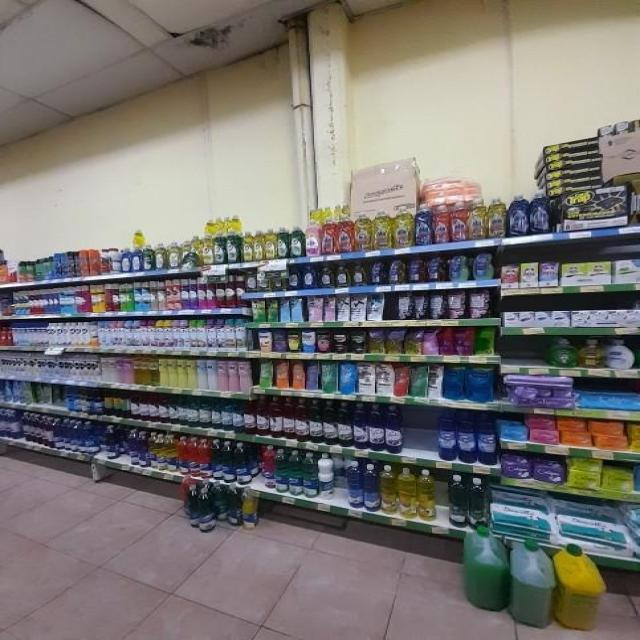ala_conc_amarillo: (394, 206, 414, 248), (373, 209, 392, 250), (488, 197, 506, 239), (354, 212, 372, 252), (469, 198, 486, 240)
ala_conc_azul: (508, 194, 528, 236), (415, 205, 432, 245)
ala_conc_rojo: (450, 201, 468, 242), (433, 204, 449, 244), (337, 214, 353, 253), (304, 220, 320, 256), (321, 216, 336, 254)
magistral_con_amarillo: (335, 262, 350, 288), (352, 262, 366, 286)
magistral_con_azul: (226, 230, 240, 264), (302, 264, 318, 290), (319, 263, 333, 289)
zorro: (387, 257, 404, 285), (408, 256, 423, 284)
